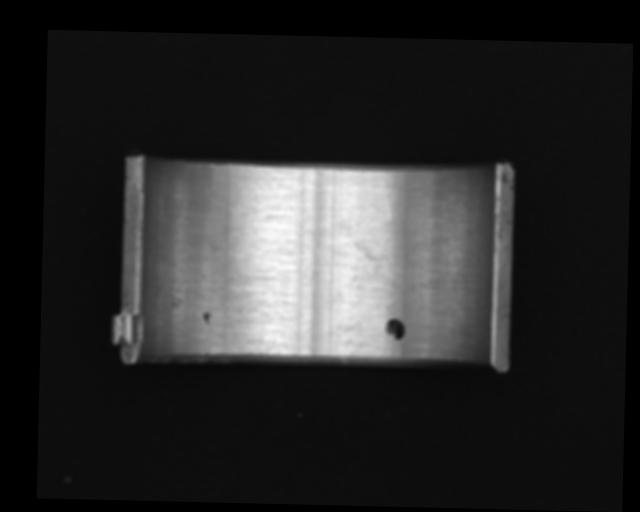blot: (351, 234, 402, 289), (384, 317, 406, 341)
bruise: (201, 309, 212, 324)
nick: (376, 175, 393, 220)
